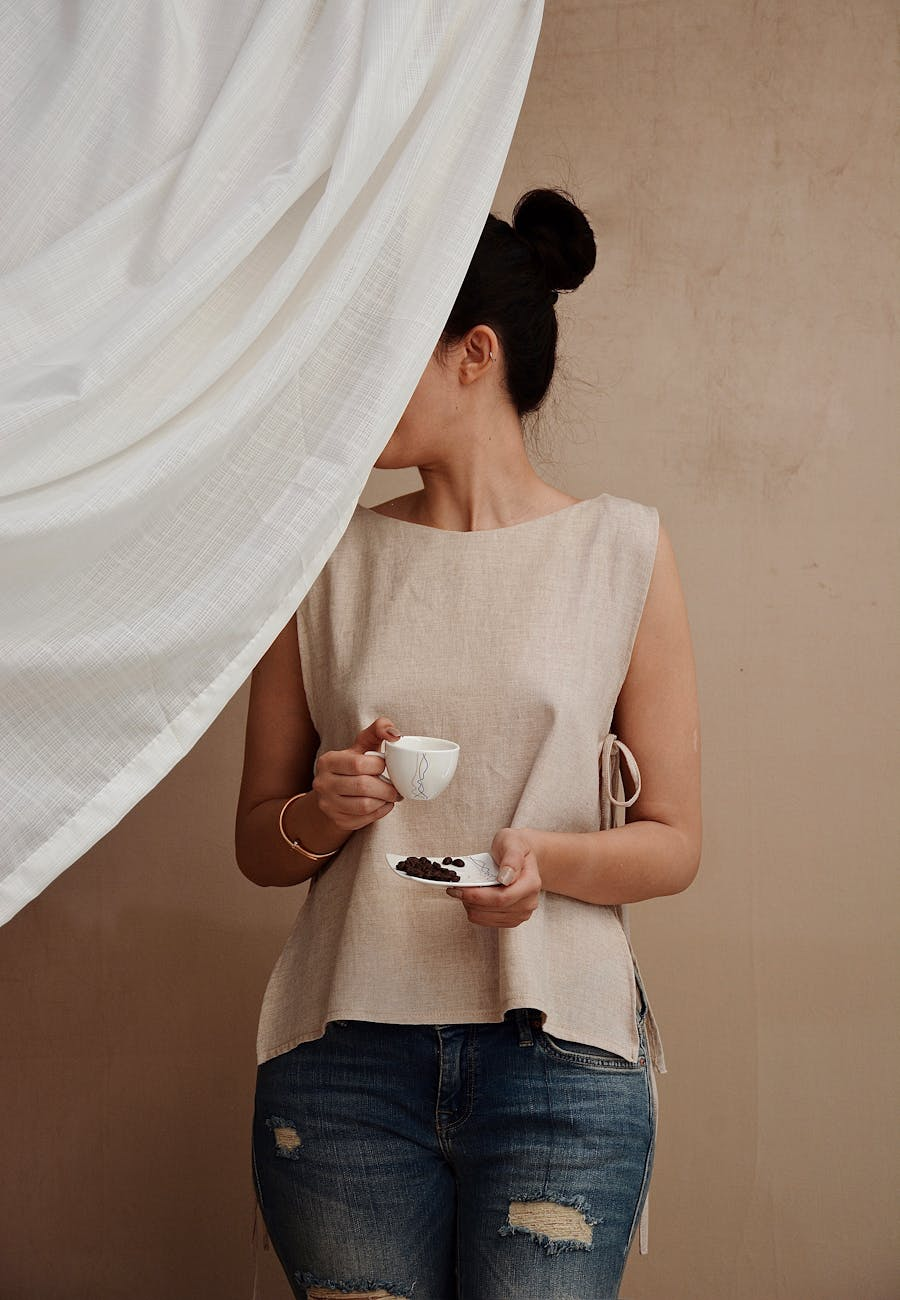ripped_jeans: (247, 1051, 650, 1300)
sleeveless_top: (278, 492, 652, 880)
